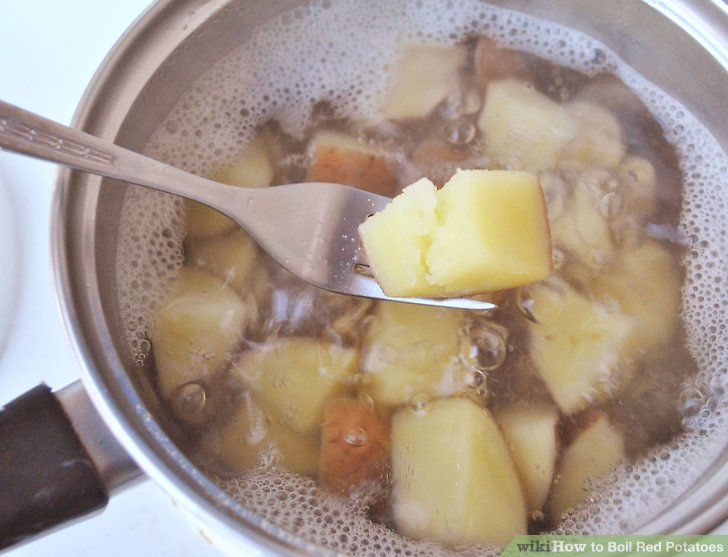boiled potatoes: (175, 285, 700, 524), (368, 169, 552, 300)
